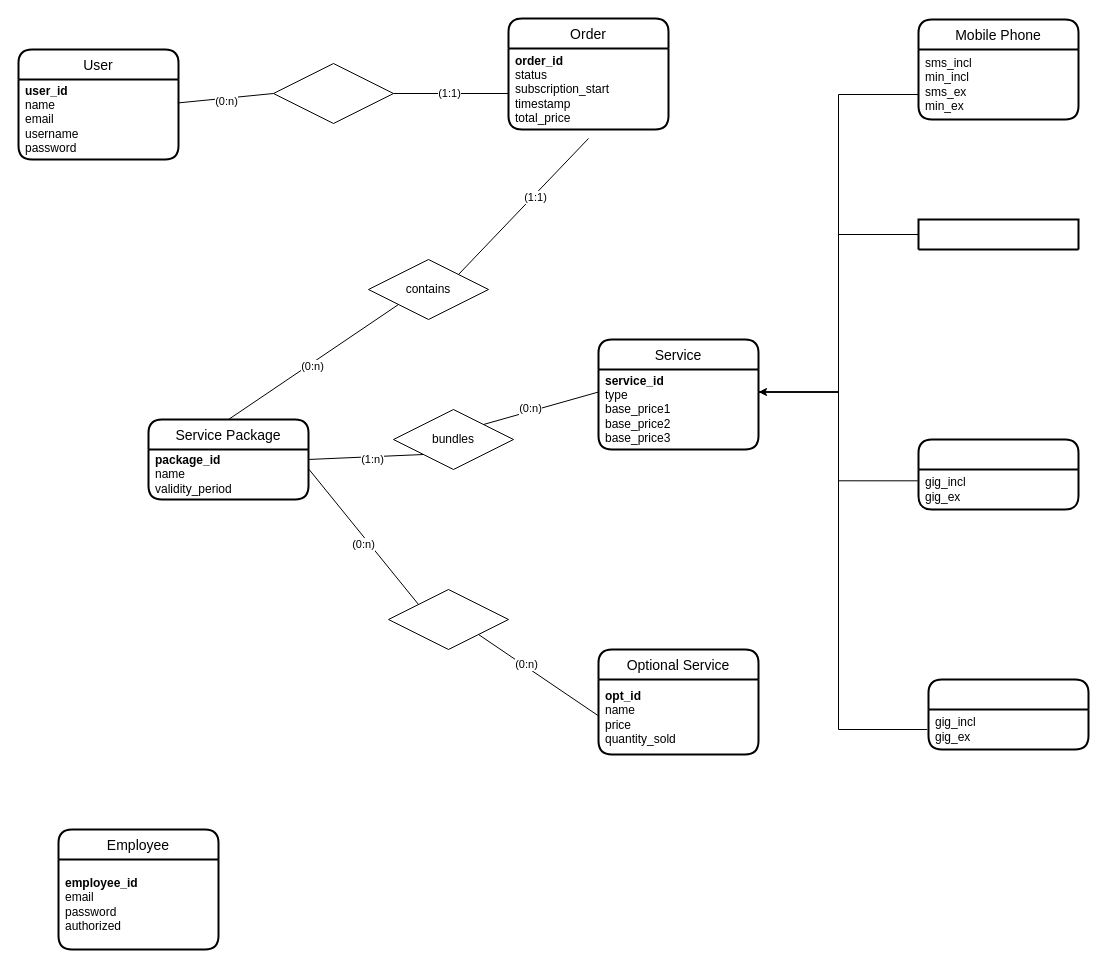
Some shapes in this 1106 by 967 pixel diagram are drawn without their labels. Here are the shapes that lost their labels. From the top down, the box of each, then its label:
(272, 62, 394, 124): places
(917, 218, 1079, 250): Fixed Phone
(917, 438, 1079, 510): Mobile Internet
(388, 588, 508, 650): adds
(927, 678, 1089, 750): Fixed Internet
